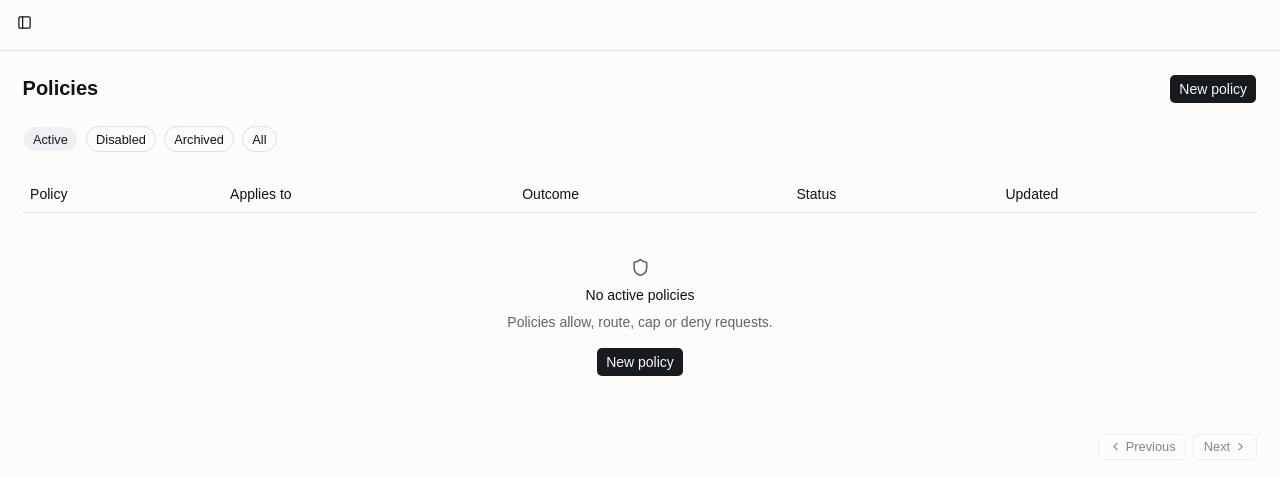
Test: the status chips filter the list and All drops the filter
Click the button "Disabled".
click(121, 139)  # box [86,126,156,152]
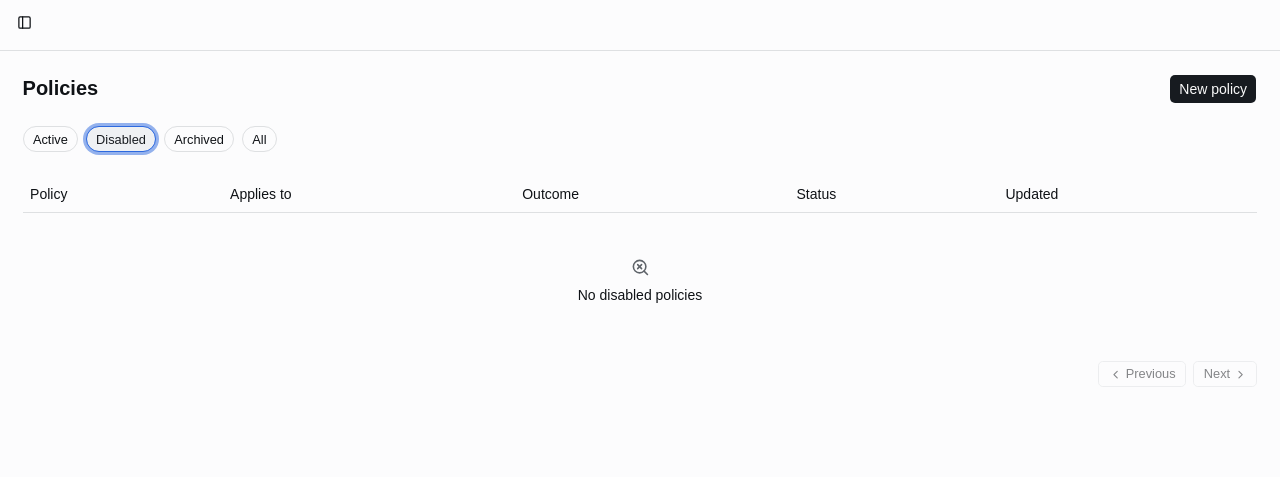
Expected: the text "No disabled policies" is shown, [578,284,702,304]
Click the button "All".
click(259, 139)  # box [242,126,277,152]
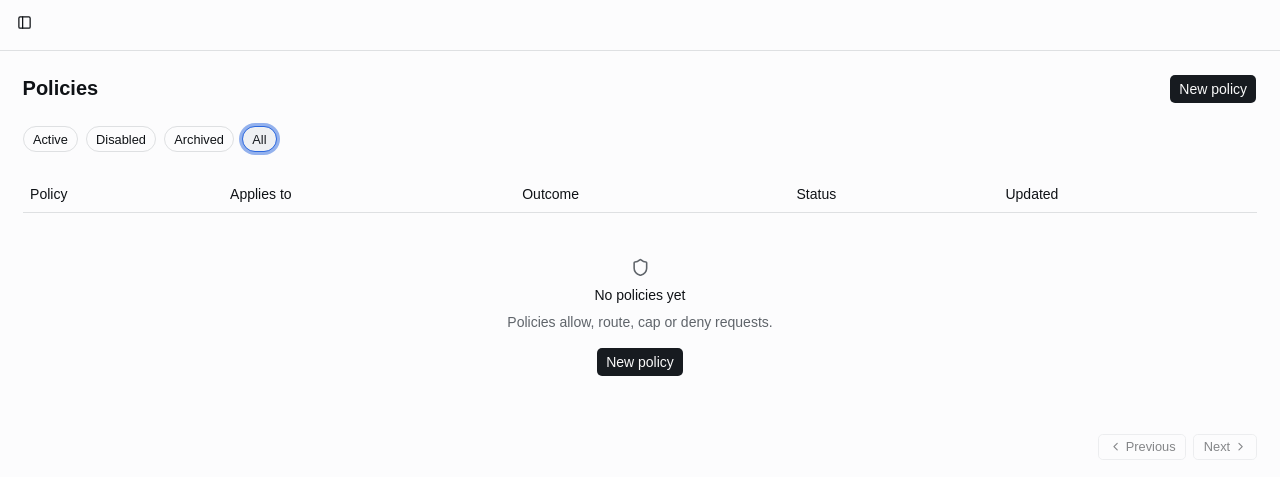
Expected: the text "No policies yet" is shown, [594,284,686,304]
